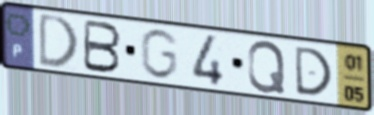4: (190, 33, 226, 89)
B: (81, 17, 124, 75)
D: (37, 11, 80, 69), (292, 44, 335, 98)
G: (138, 27, 181, 81)
Q: (246, 39, 288, 95)
